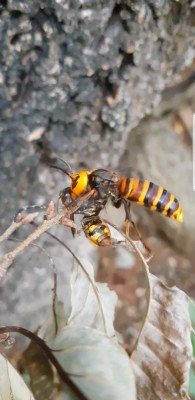asian_giant_hornet: (58, 160, 185, 221)
